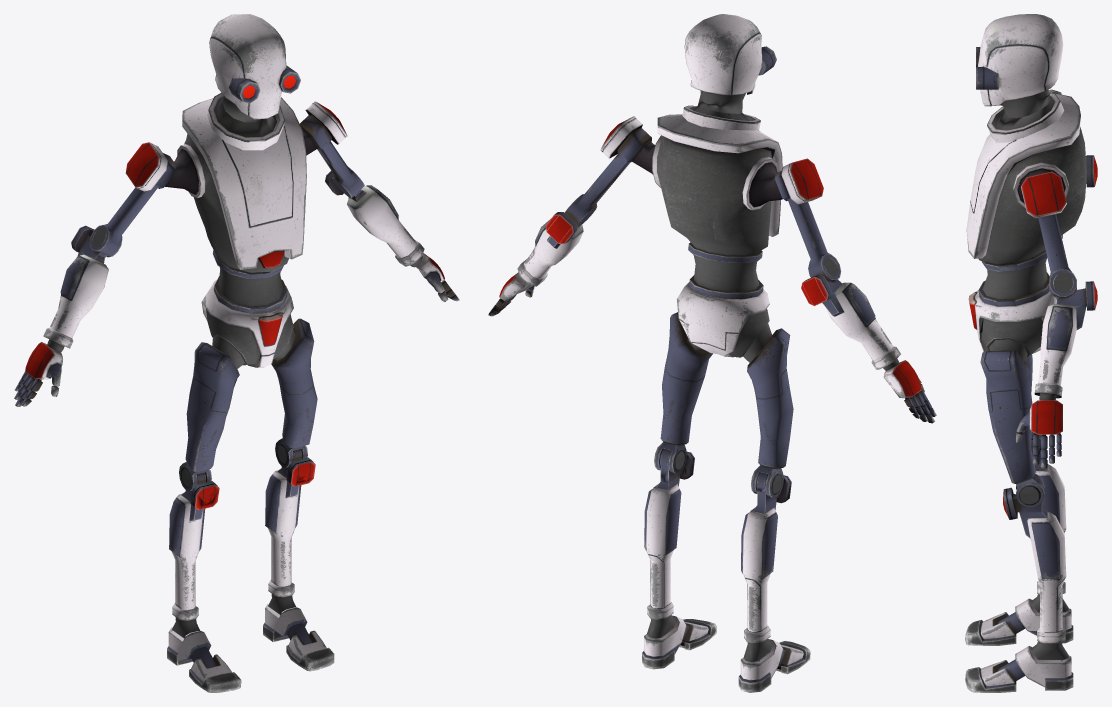
Rendered from robo.obj.
3 views of the same model, side by side, from view 1: azimuth 30°, elevation 25°; view 2: azimuth 150°, elevation 25°; view 3: azimuth 270°, elevation 25° (orthographic).
Parts seen in each view (by area): view 1: RobotBody, RobotHead, RobotRightFoot, RobotLeftFoot, RobotRightLeg, RobotRightHand, RobotLeftLeg, RobotLeftHand, RobotRightArm, RobotLeftArm; view 2: RobotBody, RobotRightFoot, RobotHead, RobotLeftFoot, RobotRightHand, RobotRightLeg, RobotLeftLeg, RobotRightArm, RobotLeftHand, RobotLeftArm; view 3: RobotBody, RobotLeftFoot, RobotHead, RobotLeftLeg, RobotLeftHand, RobotRightFoot, RobotLeftArm, RobotRightHand, RobotRightLeg.
Part boxes in pixels (x1,y1,x2,y2): RobotBody: (164, 93, 321, 368); RobotHead: (209, 14, 300, 122); RobotRightFoot: (167, 488, 241, 692); RobotLeftFoot: (263, 468, 334, 671); RobotRightLeg: (179, 342, 239, 502); RobotRightHand: (14, 225, 108, 406); RobotLeftLeg: (271, 318, 317, 483); RobotLeftHand: (325, 166, 459, 301); RobotRightArm: (89, 142, 176, 257); RobotLeftArm: (300, 101, 364, 198); RobotBody: (627, 105, 784, 365); RobotRightFoot: (738, 483, 810, 692); RobotHead: (684, 14, 776, 113); RobotLeftFoot: (642, 474, 716, 669); RobotRightHand: (801, 274, 936, 423); RobotRightLeg: (747, 328, 793, 498); RobotLeftLeg: (654, 312, 712, 482); RobotRightArm: (774, 158, 841, 281); RobotLeftHand: (488, 212, 583, 316); RobotLeftArm: (565, 116, 651, 226); RobotBody: (966, 93, 1086, 361); RobotLeftFoot: (965, 508, 1073, 692); RobotHead: (976, 14, 1063, 118); RobotLeftLeg: (980, 350, 1044, 517); RobotLeftHand: (1015, 281, 1097, 468); RobotRightFoot: (965, 463, 1073, 645); RobotLeftArm: (1021, 171, 1076, 299); RobotRightHand: (1061, 155, 1097, 238); RobotRightLeg: (1025, 354, 1042, 463).
Bounding box in the file's own units: 0.5596 × 0.7739 × 0.1444.
1 material, 1 textured.
